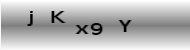9: (90, 22, 103, 35)
K: (49, 9, 66, 23)
Y: (118, 18, 132, 33)
j: (26, 9, 33, 26)
x: (75, 23, 89, 35)
